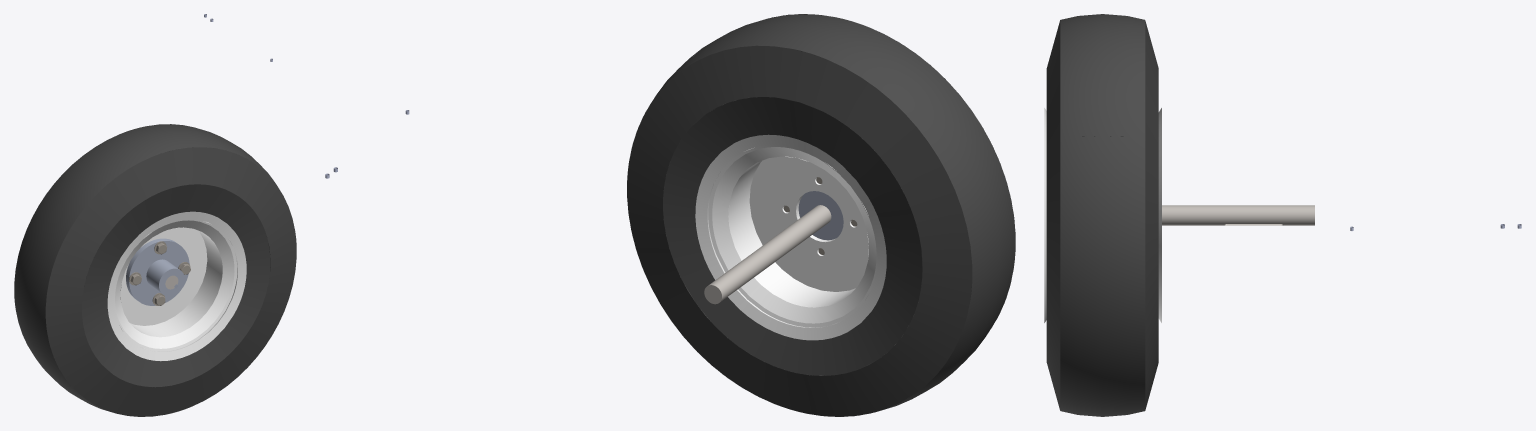
The model's file is back_right_wheel_link.DAE.
The picture shows the model from 3 angles, left to right: view 1: azimuth 30°, elevation 25°; view 2: azimuth 150°, elevation 25°; view 3: azimuth 270°, elevation 25°; orthographic projection. The views are drawn at different scales.
Visible parts, largest first — view 1: Revolution1_1_-DC_Shell, Revolution1_2_-DC_Shell, Mirror1-DC_Shell, Cut-Extrude4-DC_Shell; view 2: Revolution1_1_-DC_Shell, Revolution1_2_-DC_Shell, Mirror1-DC_Shell, Extrusion4-DC_Shell, Cut-Extrude4-DC_Shell; view 3: Revolution1_2_-DC_Shell, Revolution1_1_-DC_Shell, Extrusion4-DC_Shell, Mirror1-DC_Shell.
Part boxes in pixels (x1,y1,x2,y2): Revolution1_1_-DC_Shell: [14, 124, 254, 400]; Revolution1_2_-DC_Shell: [72, 150, 296, 416]; Mirror1-DC_Shell: [107, 211, 246, 361]; Cut-Extrude4-DC_Shell: [126, 238, 189, 305]; Revolution1_1_-DC_Shell: [684, 14, 1015, 393]; Revolution1_2_-DC_Shell: [627, 48, 937, 416]; Mirror1-DC_Shell: [695, 134, 886, 340]; Extrusion4-DC_Shell: [704, 205, 831, 304]; Cut-Extrude4-DC_Shell: [798, 191, 843, 240]; Revolution1_2_-DC_Shell: [1046, 136, 1158, 416]; Revolution1_1_-DC_Shell: [1046, 14, 1158, 157]; Extrusion4-DC_Shell: [1162, 205, 1314, 225]; Mirror1-DC_Shell: [1044, 108, 1161, 322].
Bounding box in the file's own units: 19.56 × 17.69 × 14.92.
